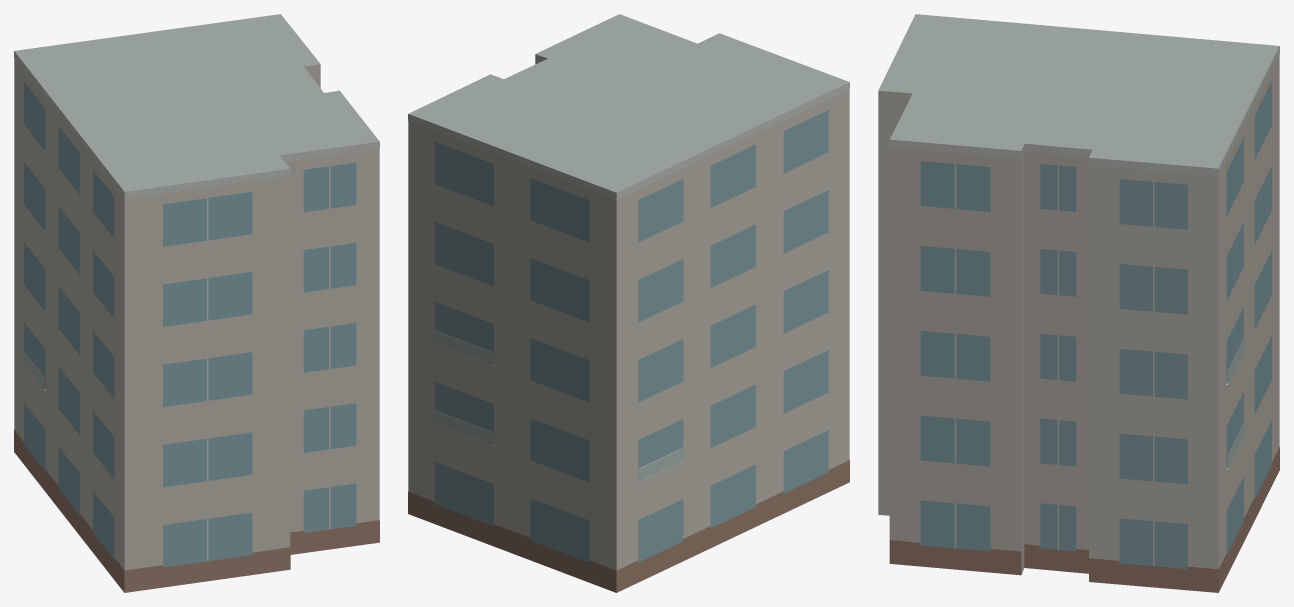
The model's file is survey-upis-32702462.glb.
The picture shows the model from 3 angles, left to right: view 1: azimuth 30°, elevation 25°; view 2: azimuth 150°, elevation 25°; view 3: azimuth 270°, elevation 25°; orthographic projection. The views are drawn at different scales.
Parts seen in each view (by area): view 1: survey-upis-32702462.tmp; view 2: survey-upis-32702462.tmp; view 3: survey-upis-32702462.tmp.
Part boxes in pixels (left/top/right/bottom): survey-upis-32702462.tmp: left=14, top=14, right=379, bottom=592; survey-upis-32702462.tmp: left=408, top=14, right=849, bottom=592; survey-upis-32702462.tmp: left=878, top=14, right=1279, bottom=592.
Size of the model in its own units: 10.56 by 13.5 by 11.59.
